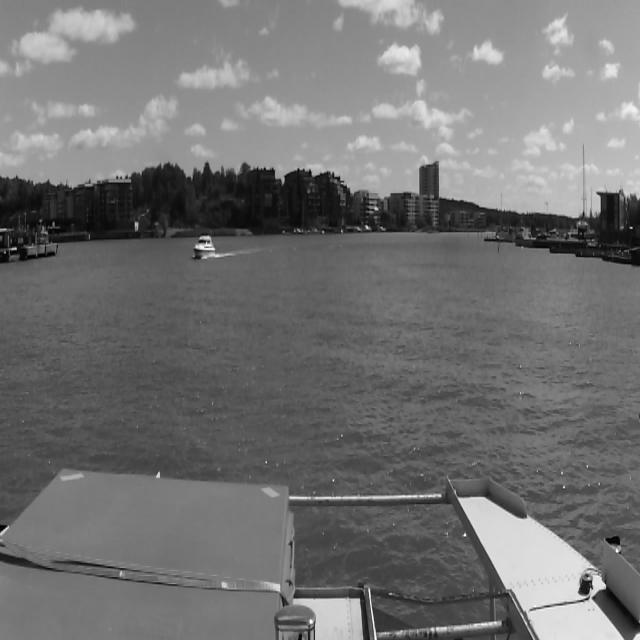ship: (193, 234, 216, 258)
